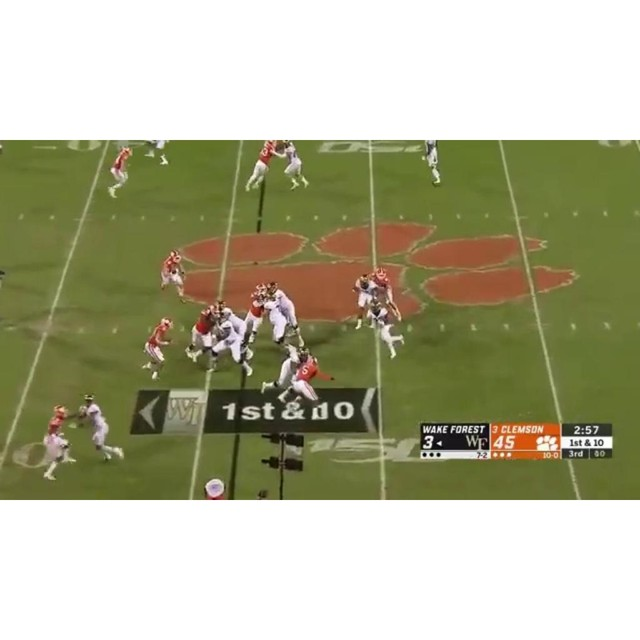american-football-player: (281, 350, 332, 420), (78, 394, 125, 463), (208, 312, 253, 375), (41, 406, 77, 482), (367, 298, 406, 359), (185, 301, 222, 364), (268, 281, 304, 345), (261, 346, 304, 397), (245, 140, 285, 192), (142, 318, 174, 382), (368, 266, 403, 322), (352, 273, 380, 331), (279, 141, 310, 192), (244, 288, 269, 347), (160, 249, 187, 303), (263, 294, 290, 346), (108, 146, 133, 199), (421, 141, 443, 188), (144, 140, 170, 167)
